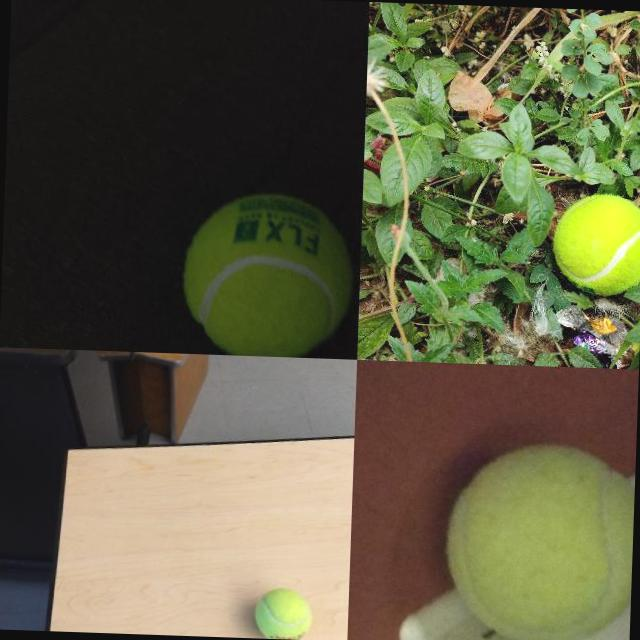Tennis Ball: (438, 436, 635, 640), (178, 190, 356, 358), (550, 192, 640, 295), (252, 586, 313, 639)
